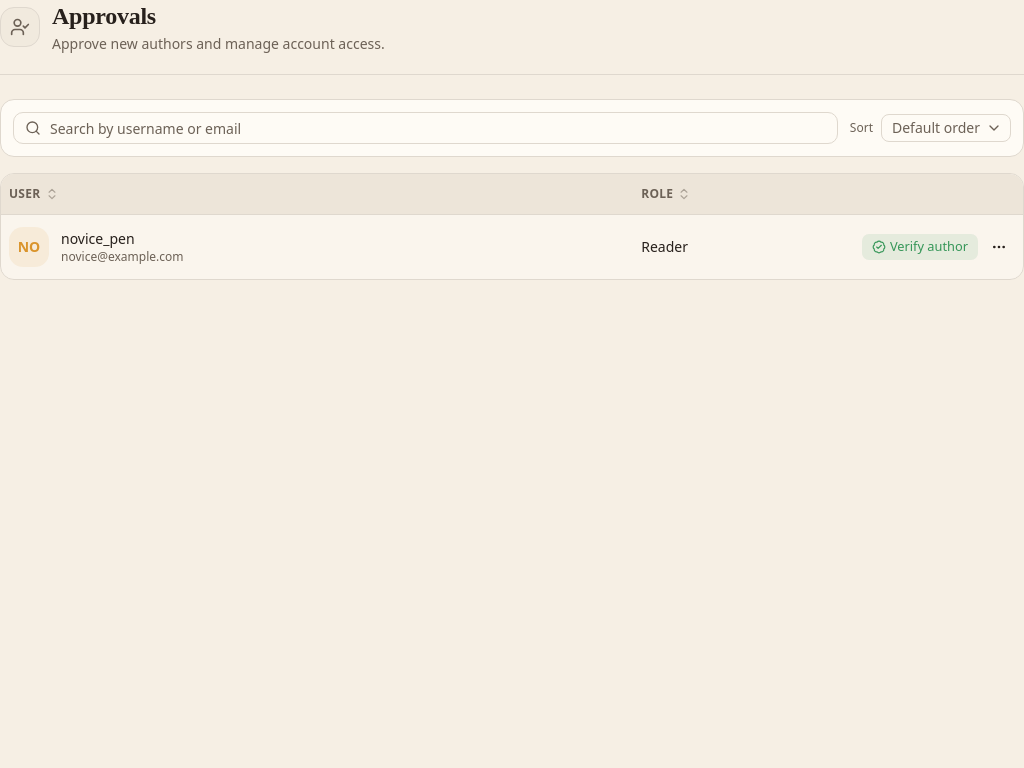
Scenario: UsersQueuePage › bans a user with a required reason (FR-1.4)
This screenshot has width=1024, height=768.
Click the button named "actions": (999, 246) [983,230,1015,262]
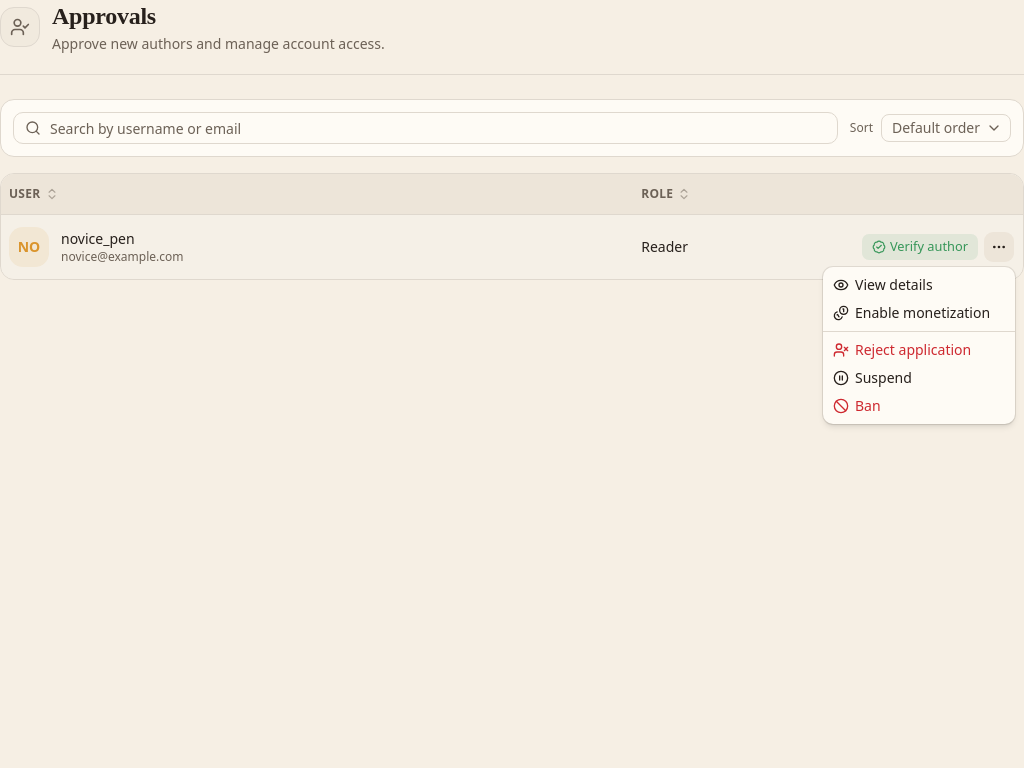
Click the menu item "Ban": (857, 406) [833,396,881,415]
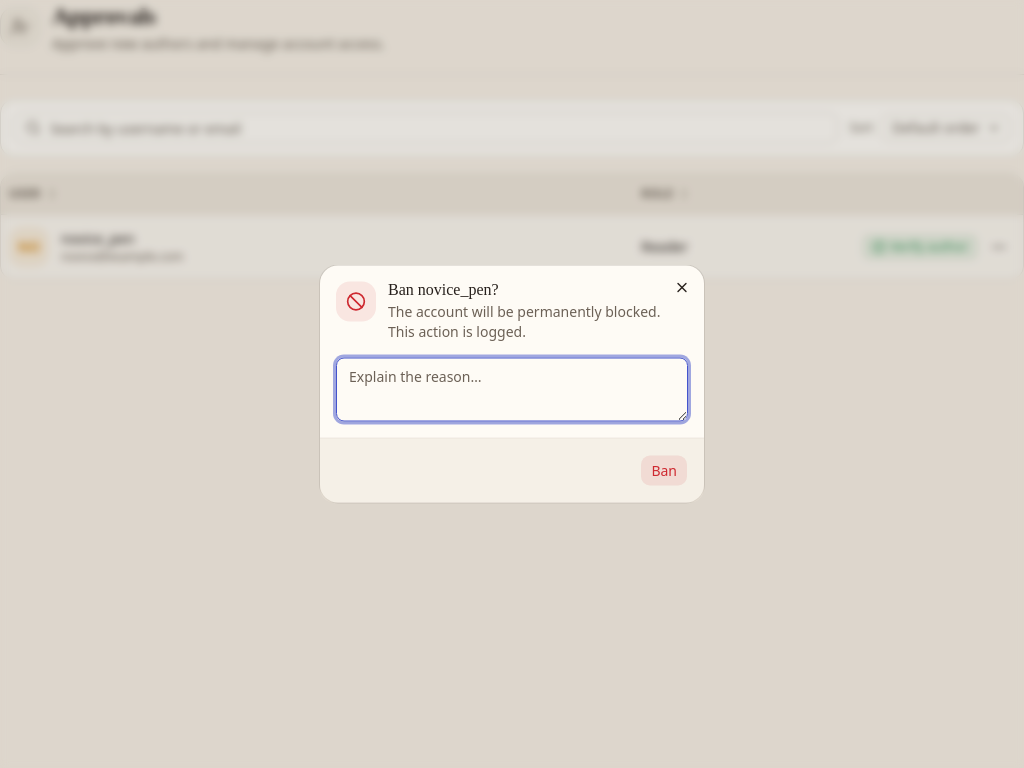
In the text box labelled "reason": (512, 390) [336,358,688,422], type "Fraudulent activity"
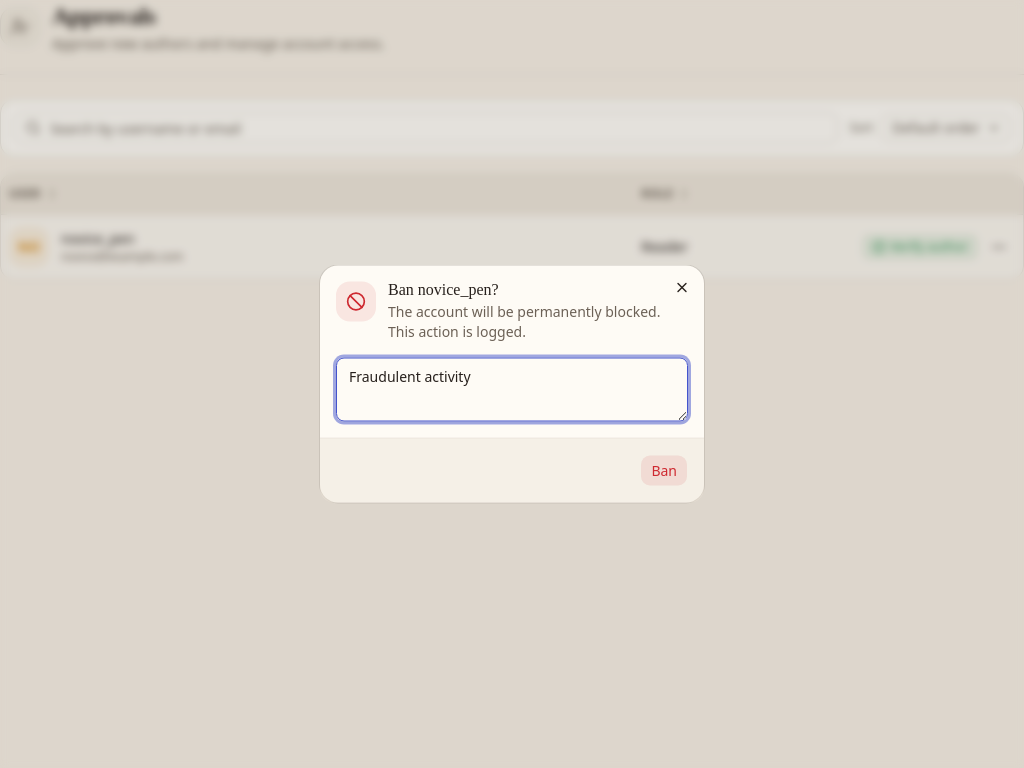
Click the button "Ban": (664, 470) [640,454,688,486]
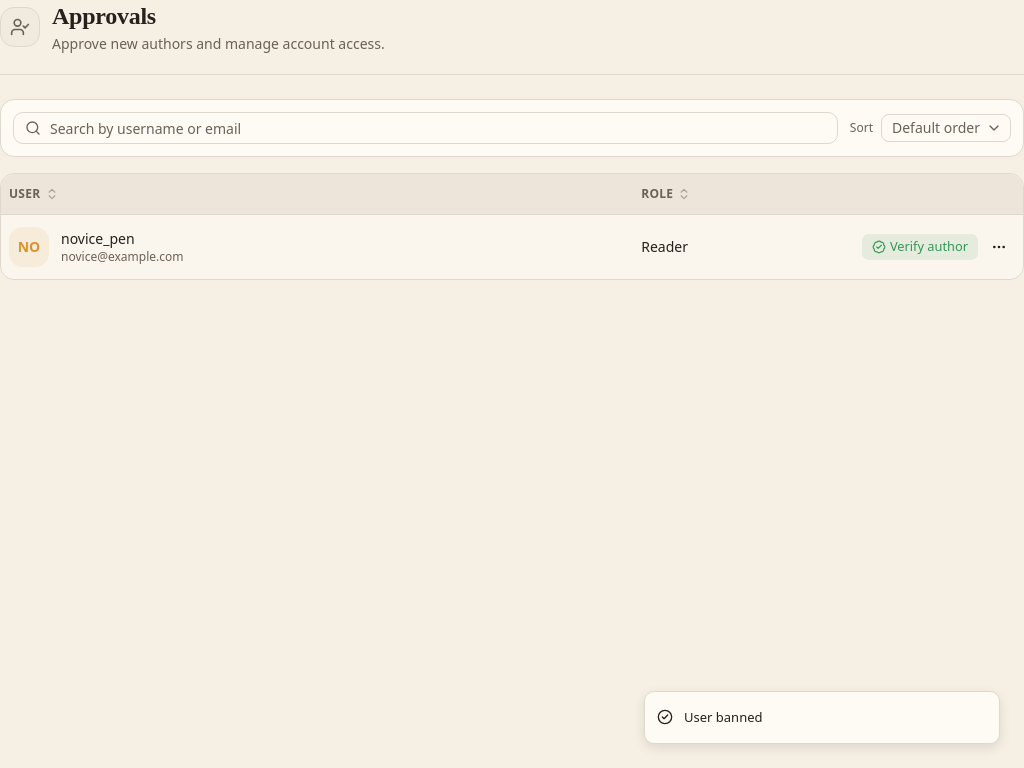
expect the text "User banned" is shown: met, box [684,708,762,727]
